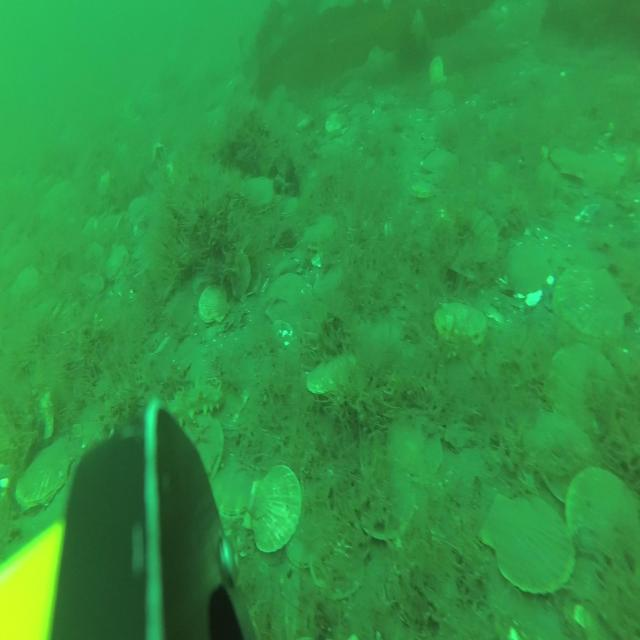holothurian: (167, 379, 223, 425)
scallop: (483, 488, 573, 590), (566, 462, 640, 570), (554, 255, 634, 344), (529, 403, 597, 501), (546, 342, 616, 436), (354, 448, 417, 537), (246, 470, 302, 564), (390, 407, 442, 487), (310, 528, 366, 601), (17, 441, 75, 511), (289, 494, 335, 571), (185, 416, 224, 488), (504, 235, 550, 295), (435, 295, 487, 345), (460, 202, 499, 260), (580, 153, 624, 194), (308, 357, 342, 408), (222, 247, 252, 297), (242, 174, 276, 215), (198, 284, 229, 328), (303, 224, 335, 262), (551, 145, 583, 182), (424, 145, 458, 179), (15, 261, 39, 307), (105, 247, 130, 279), (80, 275, 104, 305), (410, 178, 433, 207), (325, 112, 349, 139), (432, 85, 456, 111), (427, 54, 445, 88), (127, 195, 148, 223)
